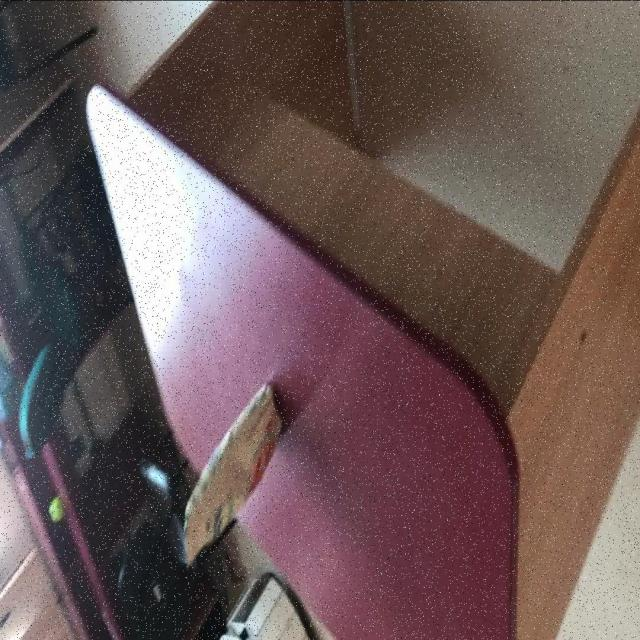CornFlakes: (182, 378, 284, 567)
